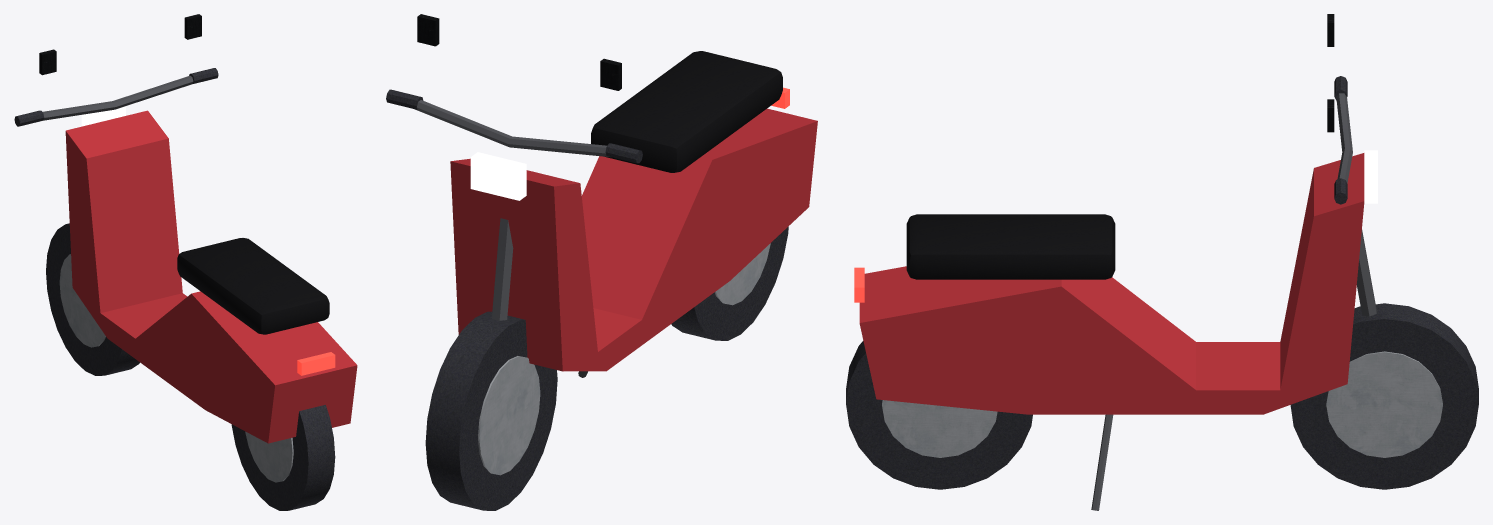
The model's file is scooter_red.gltf.
3 renders of one model, left to right at view 1: azimuth 30°, elevation 25°; view 2: azimuth 150°, elevation 25°; view 3: azimuth 270°, elevation 25°, orthographic. The views are drawn at different scales.
Parts seen in each view (by area): view 1: scooter_red; view 2: scooter_red; view 3: scooter_red.
Part boxes in pixels (x1,y1,x2,y2): scooter_red: [14, 14, 357, 510]; scooter_red: [386, 14, 817, 510]; scooter_red: [846, 14, 1478, 510].
Bounding box in the file's own units: 0.82 × 1.38 × 1.88.
Materials: 9 (6 with a texture image).
